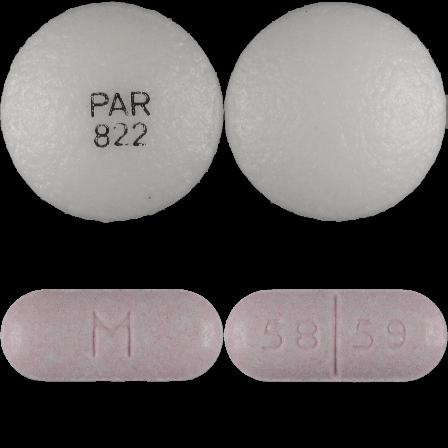35356-547: (0, 0, 224, 224)
